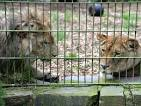lion: (1, 11, 62, 90), (95, 31, 138, 82)
